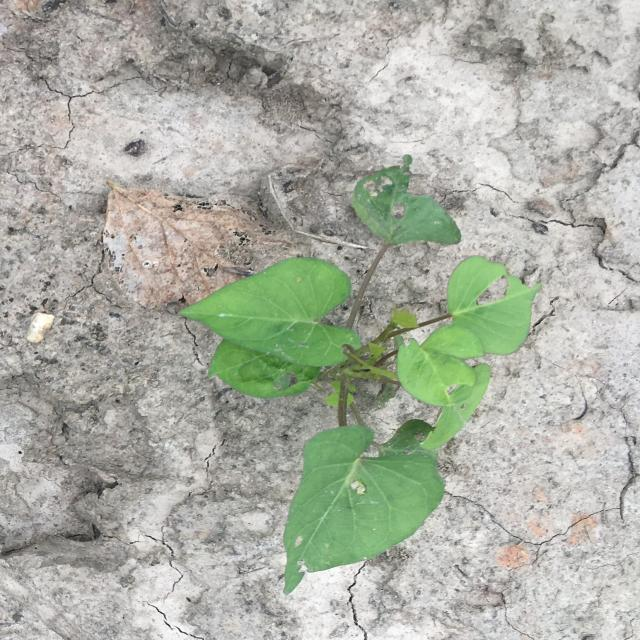MorningGlory: (178, 154, 543, 596)
